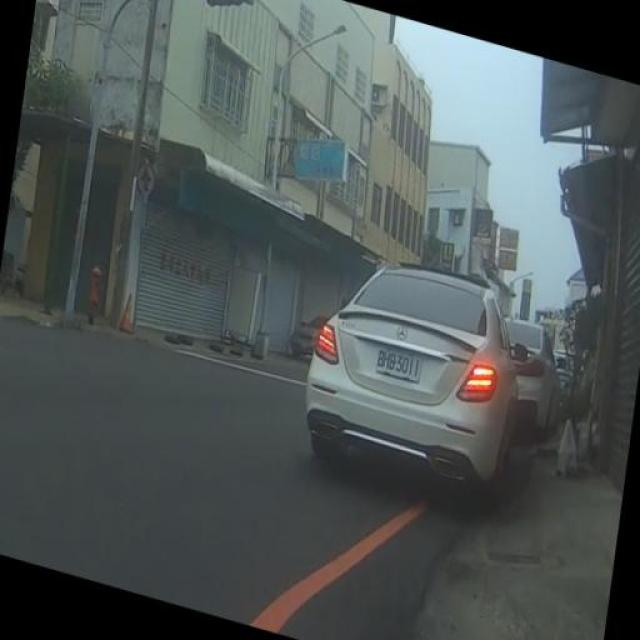illegalparking: (298, 235, 559, 546)
